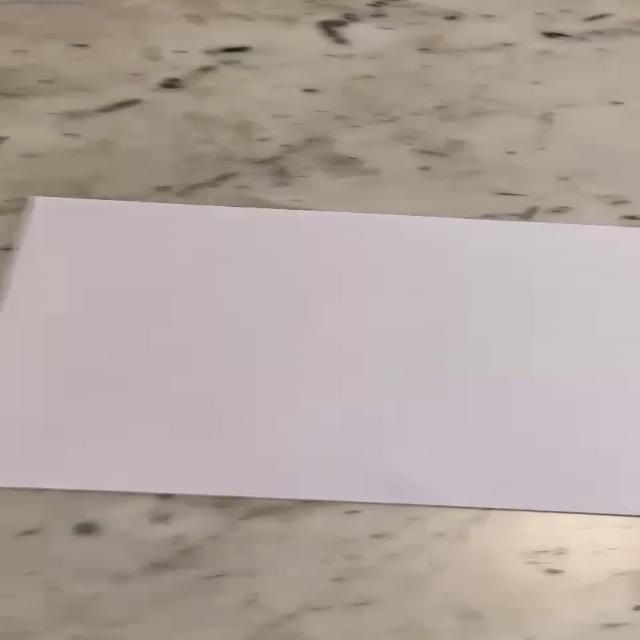road: (1, 197, 640, 515)
